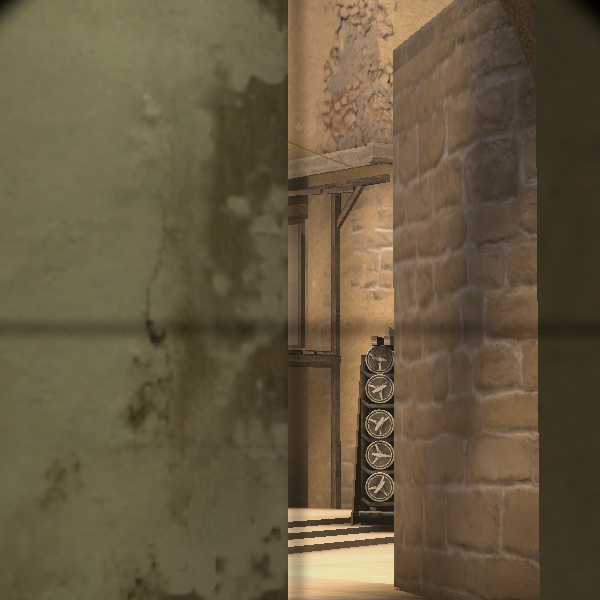t_body: (352, 356, 405, 521)
